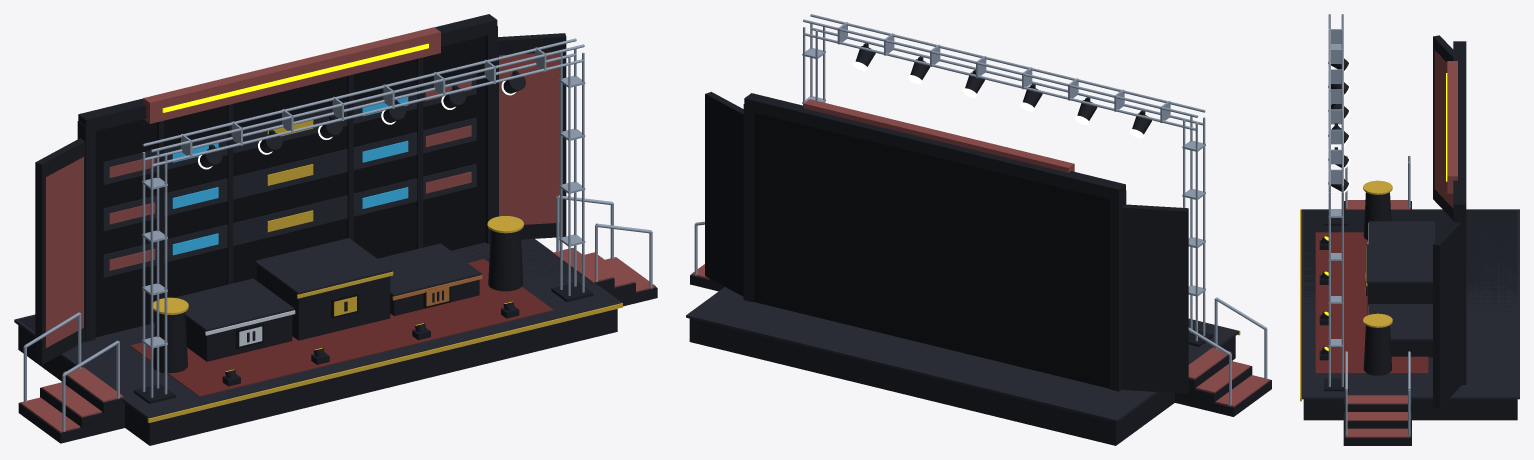
File: podium_stage.glb
3 views of the same model, side by side, from view 1: azimuth 30°, elevation 25°; view 2: azimuth 150°, elevation 25°; view 3: azimuth 270°, elevation 25° (orthographic). The views are drawn at different scales.
Visible parts, largest first — view 1: Podium_Sponsor_Backdrop, Podium_Stage_Main, Podium_Stage_Spotlights, Podium_Access_Stairs; view 2: Podium_Sponsor_Backdrop, Podium_Stage_Main, Podium_Stage_Spotlights, Podium_Access_Stairs; view 3: Podium_Stage_Main, Podium_Sponsor_Backdrop, Podium_Stage_Spotlights, Podium_Access_Stairs.
Boxes of the visible parts, x1,y1,x2,y2 form: Podium_Sponsor_Backdrop: (35, 14, 566, 364); Podium_Stage_Main: (14, 216, 622, 445); Podium_Stage_Spotlights: (134, 38, 593, 403); Podium_Access_Stairs: (18, 195, 657, 443); Podium_Sponsor_Backdrop: (705, 92, 1188, 393); Podium_Stage_Main: (686, 287, 1240, 445); Podium_Stage_Spotlights: (802, 14, 1213, 346); Podium_Access_Stairs: (690, 221, 1271, 416); Podium_Stage_Main: (1300, 180, 1519, 420); Podium_Sponsor_Backdrop: (1433, 35, 1466, 408); Podium_Stage_Spotlights: (1319, 14, 1350, 391); Podium_Access_Stairs: (1343, 155, 1411, 445).
Size of the model in its own units: 9.44 by 4.23 by 3.7.
